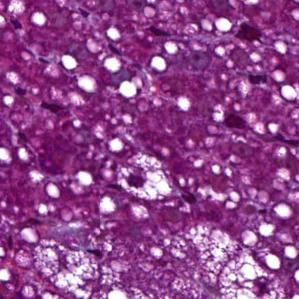ballooning: (189, 223, 287, 296), (115, 150, 175, 204)
